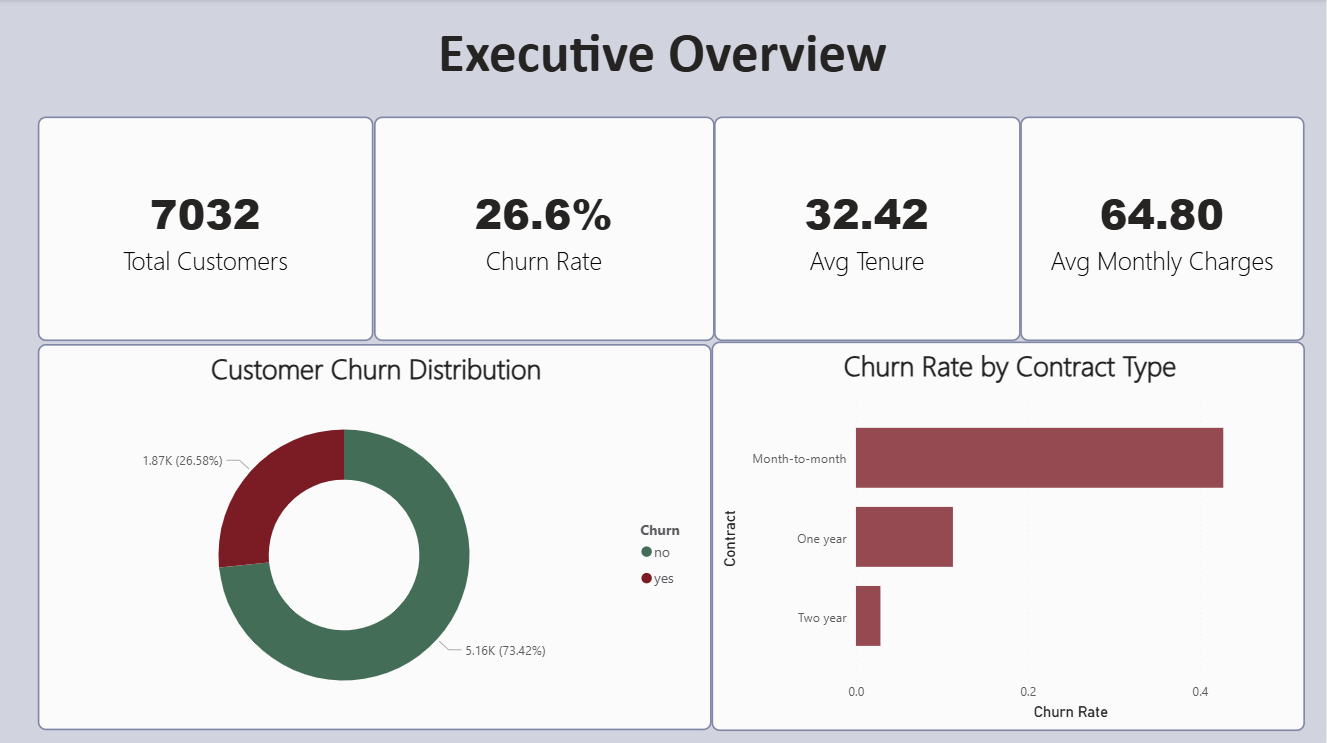

What the dashboard file says about the page in this screenshot:
{"tool":"powerbi","page":{"name":"Executive Overview","canvas":[1280,720],"ordinal":0},"visuals":[{"type":"card","fields":{"Values":["cleaned_churn_data.Total Customers"]},"box":[37.1,112.9,324.3,217.1],"z":0},{"type":"card","fields":{"Values":["cleaned_churn_data.Churn Rate"]},"box":[361.4,112.9,328.6,217.1],"z":1000},{"type":"card","fields":{"Values":["cleaned_churn_data.Avg Tenure"]},"box":[690,112.9,295.7,217.1],"z":2000},{"type":"card","fields":{"Values":["cleaned_churn_data.Avg Monthly Charges"]},"box":[985.7,112.9,274.3,217.1],"z":3000},{"type":"donutChart","title":"Customer Churn Distribution","fields":{"Category":["cleaned_churn_data.Churn"],"Y":["CountNonNull(cleaned_churn_data.customerID)"]},"box":[37.1,332.9,650,372.9],"z":4000},{"type":"clusteredBarChart","title":"Churn Rate by Contract Type","fields":{"Category":["cleaned_churn_data.Contract"],"Y":["cleaned_churn_data.Churn Rate"]},"box":[687.1,330,572.9,375.7],"z":5000},{"type":"textbox","box":[307.1,14.3,665.7,82.9],"z":6000}]}

Visuals, with their boxes in screenshot pixels (x1, y1, x2, y2), scaled from the page's 1280x720 canvas onto the 1327x743 screenshot:
card - cleaned_churn_data.Total Customers: x1=38, y1=117, x2=375, y2=341
card - cleaned_churn_data.Churn Rate: x1=375, y1=117, x2=715, y2=341
card - cleaned_churn_data.Avg Tenure: x1=715, y1=117, x2=1022, y2=341
card - cleaned_churn_data.Avg Monthly Charges: x1=1022, y1=117, x2=1306, y2=341
"Customer Churn Distribution" donutChart: x1=38, y1=344, x2=712, y2=728
"Churn Rate by Contract Type" clusteredBarChart: x1=712, y1=341, x2=1306, y2=728
textbox: x1=318, y1=15, x2=1009, y2=100
